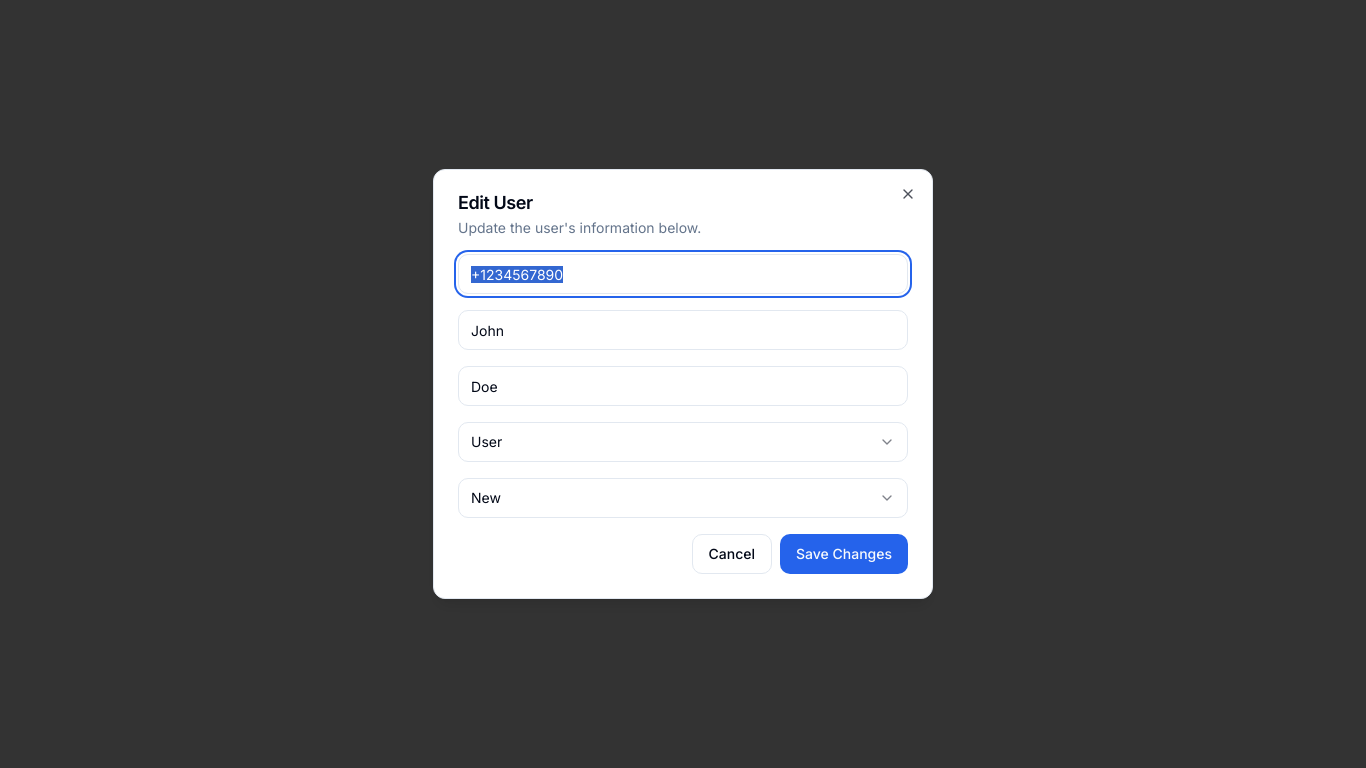
Test: EditUserDialog Component › Form Submission › should display error message on failed update
Step 1. Click the button "Save Changes" → (844, 554), box [780, 534, 908, 574]
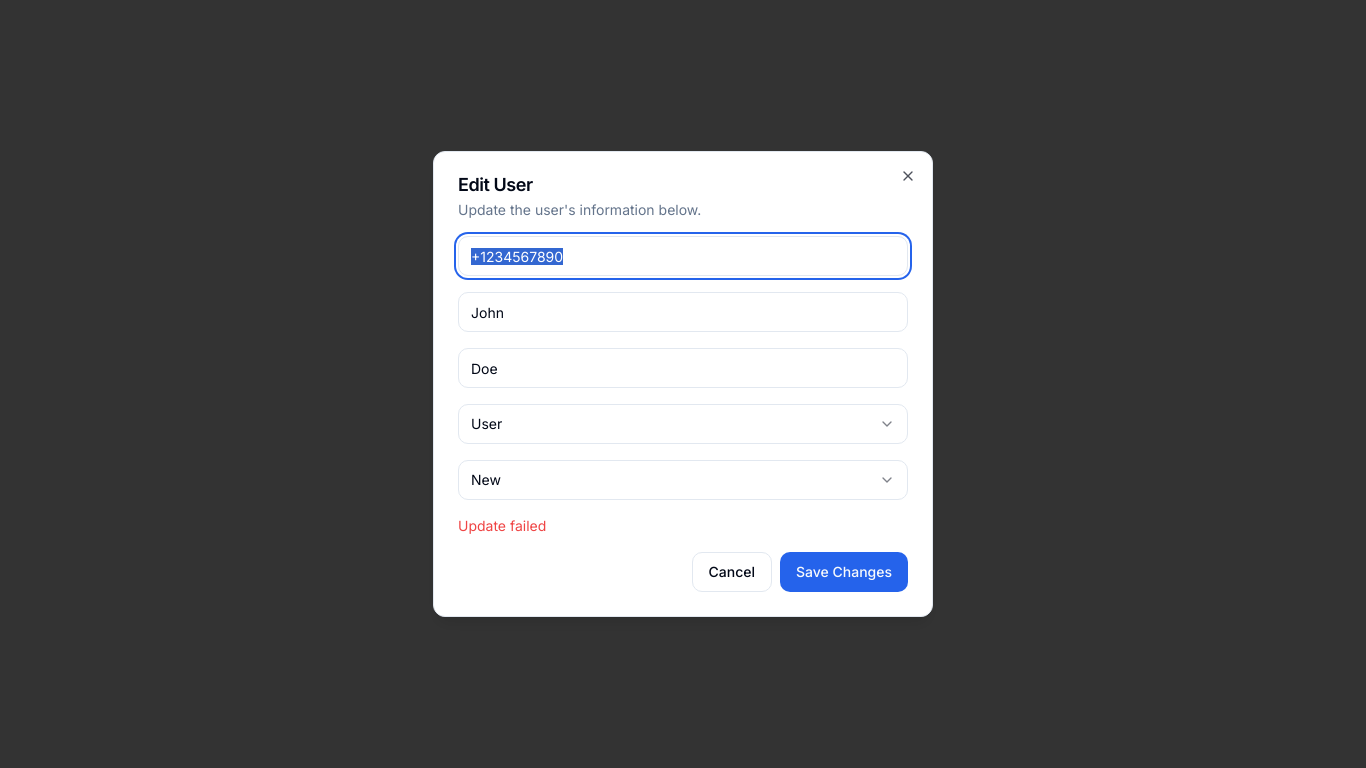
expect the text "Update failed" is shown: met, box [458, 517, 546, 534]
